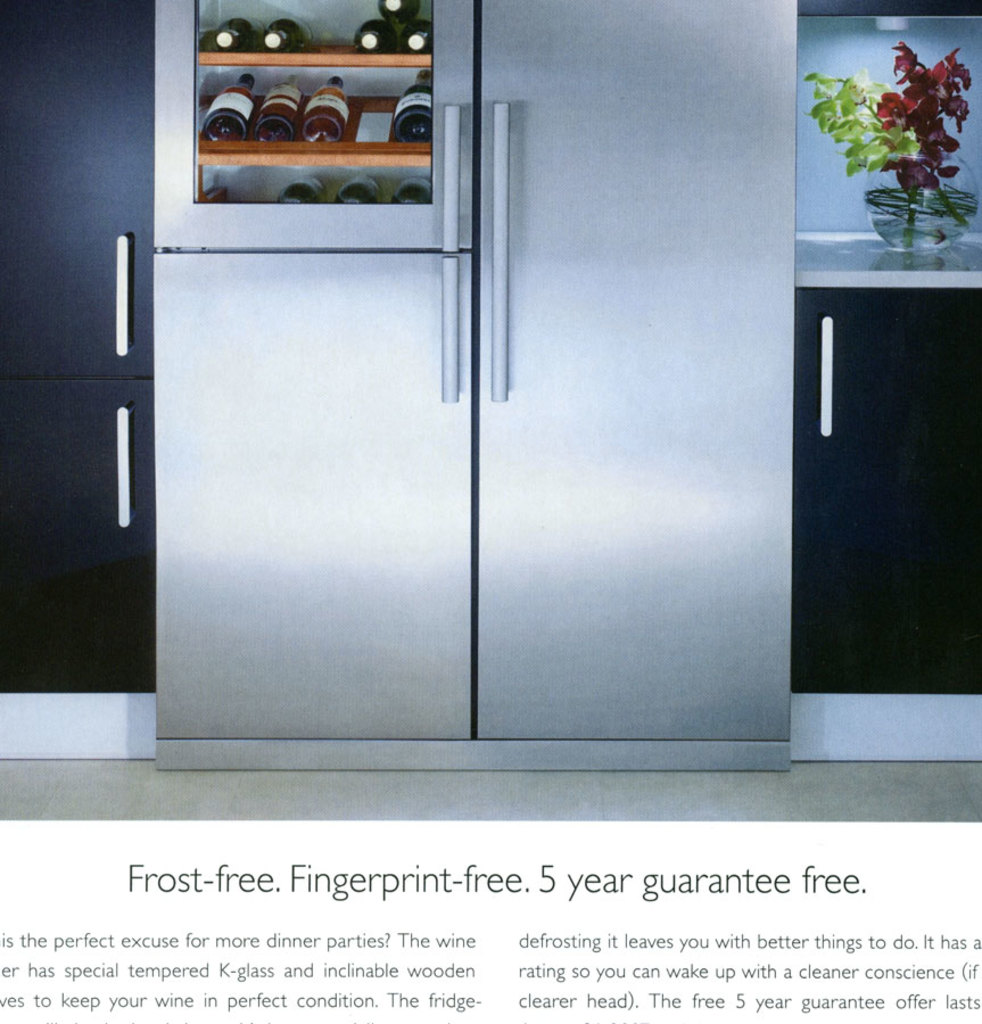cabinet door: (799, 289, 982, 678), (4, 46, 153, 377), (7, 380, 155, 688)
handle: (492, 92, 517, 394), (108, 225, 141, 368), (438, 108, 469, 249), (437, 253, 463, 408), (108, 402, 137, 532), (817, 309, 835, 434)
refrigerator door: (479, 23, 792, 717), (166, 255, 467, 725), (170, 17, 464, 243)
